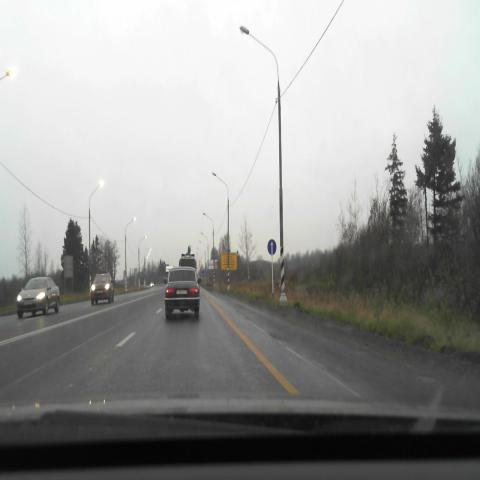4_1_1: (268, 238, 276, 255)
